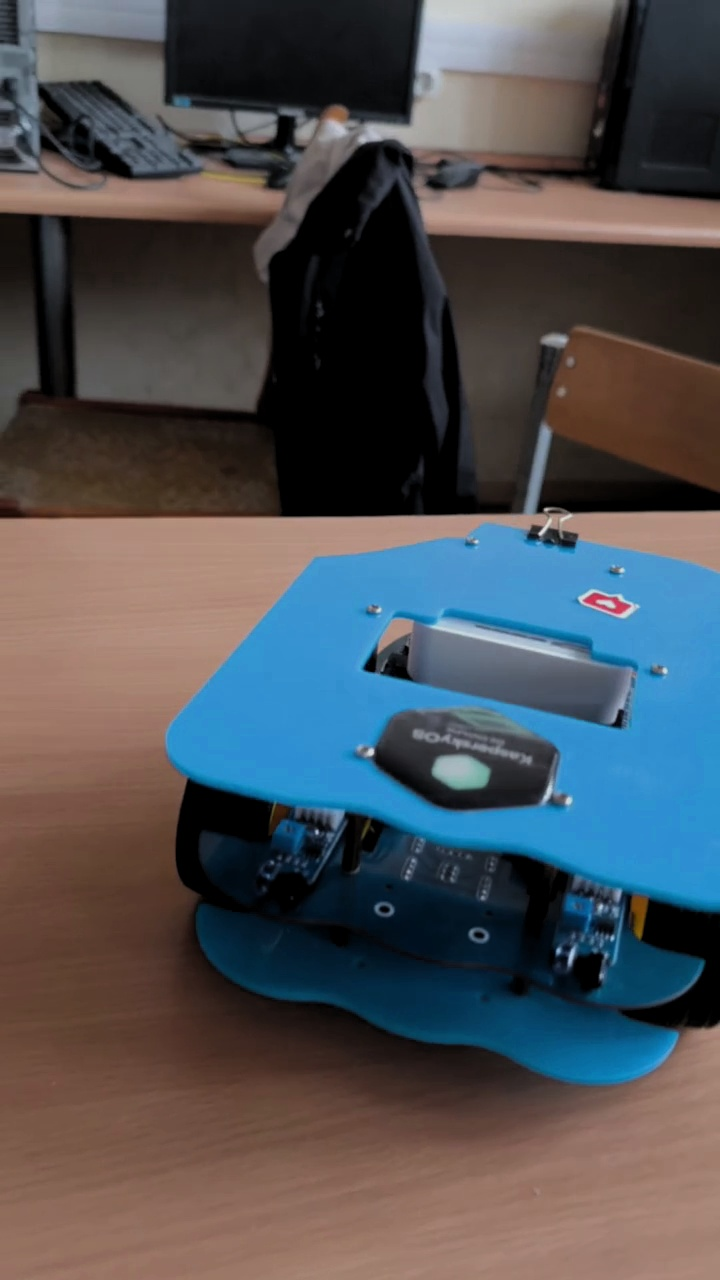robot: (165, 504, 720, 1087)
